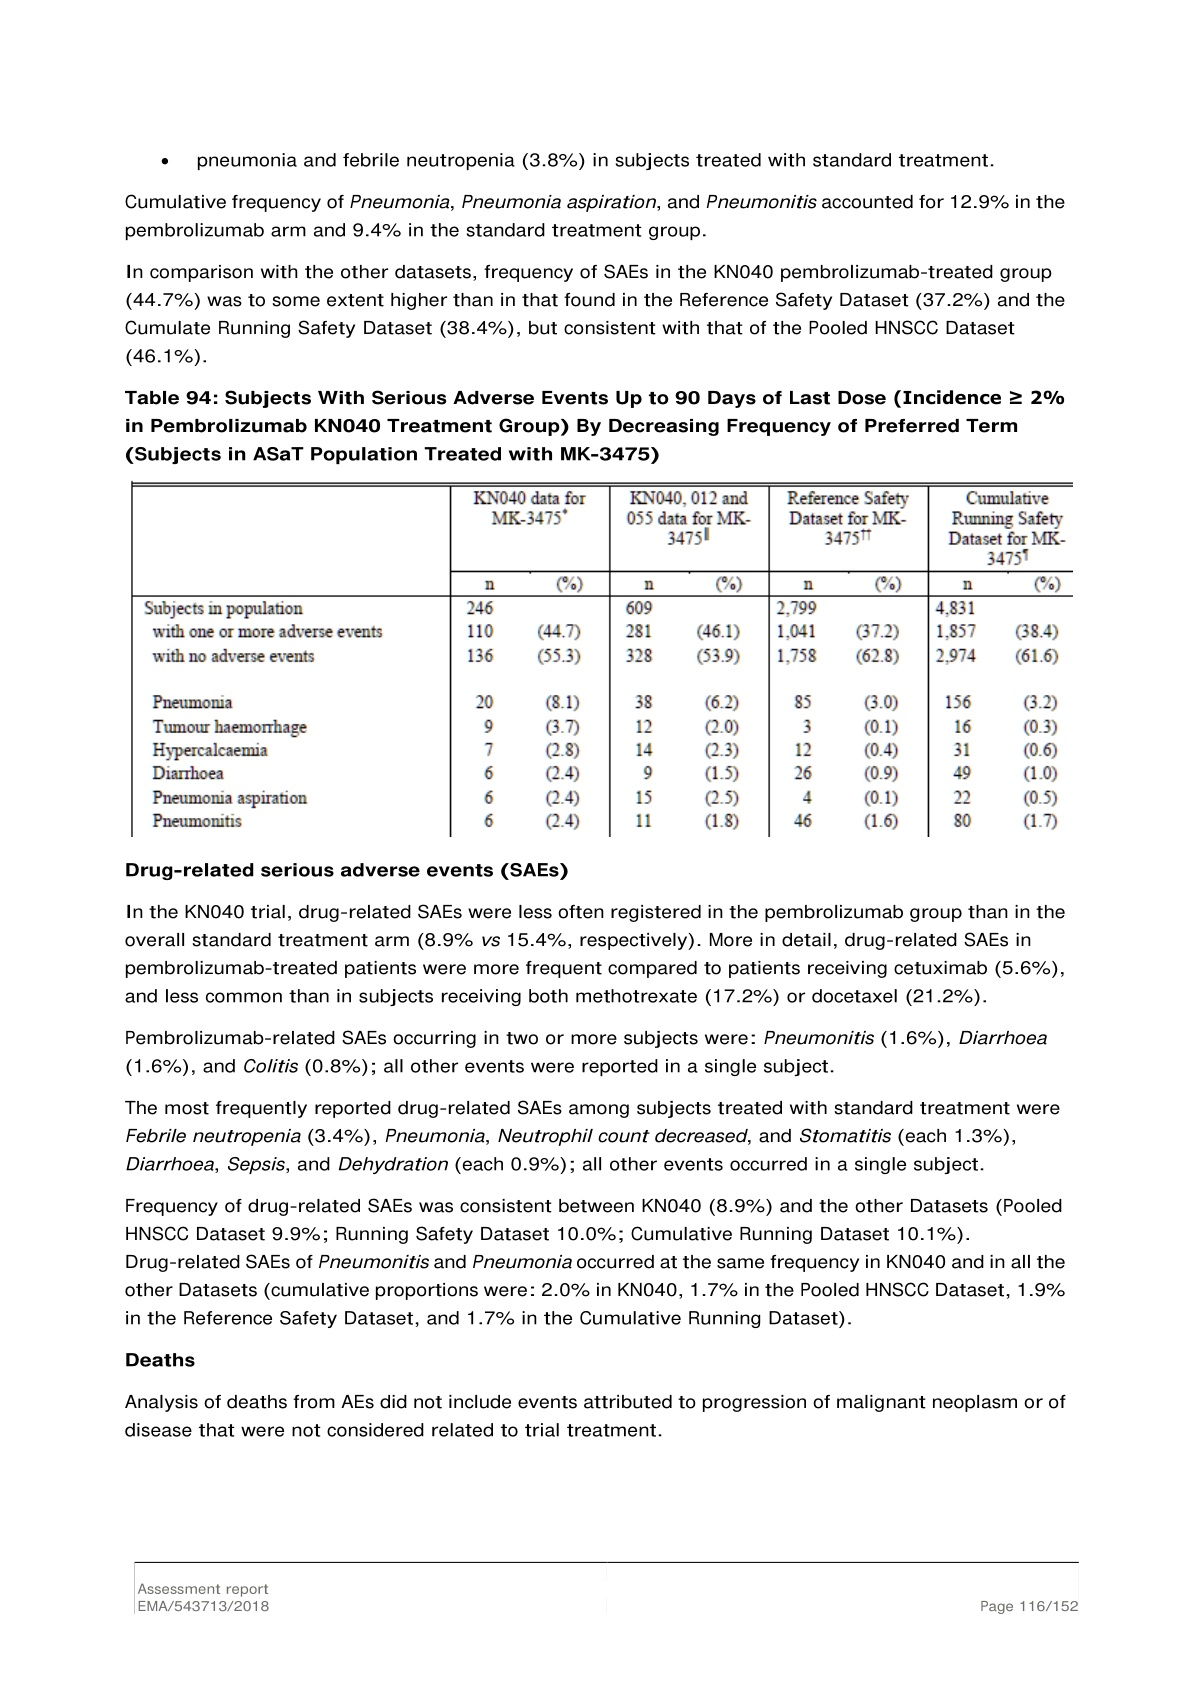partial_lined_merged_cells: (130, 480, 1074, 838)
